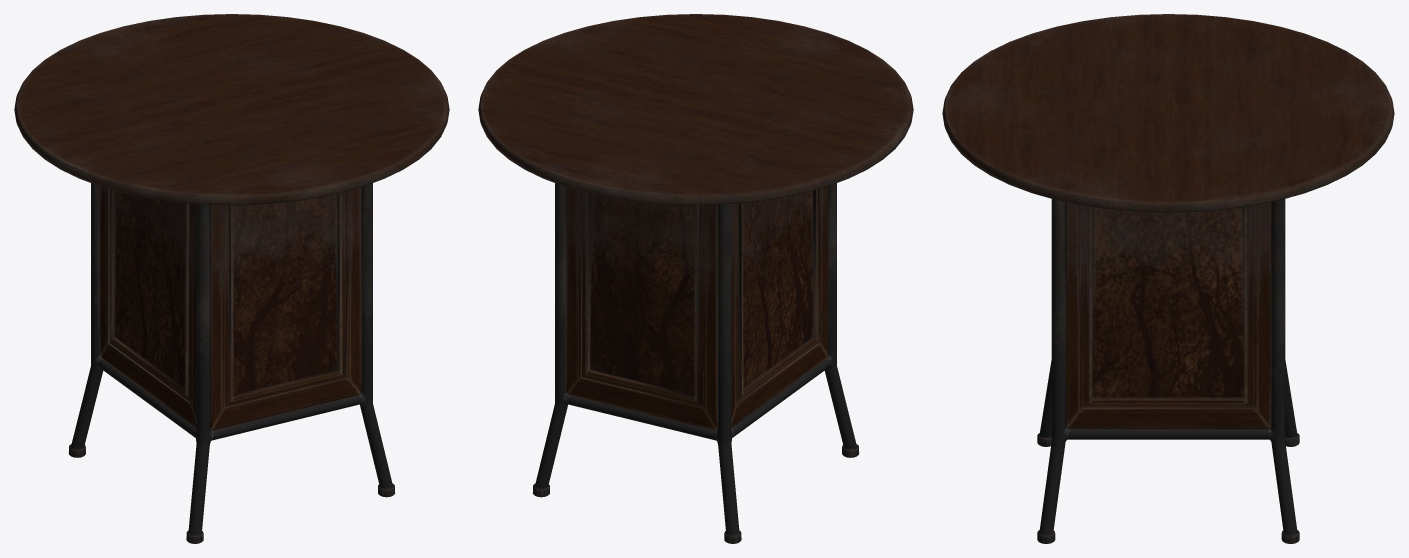
File: round_wooden_table_02.glb
The picture shows the model from 3 angles, left to right: view 1: azimuth 30°, elevation 25°; view 2: azimuth 150°, elevation 25°; view 3: azimuth 270°, elevation 25°; orthographic projection. The views are drawn at different scales.
Visible parts, largest first — view 1: round_wooden_table_02; view 2: round_wooden_table_02; view 3: round_wooden_table_02.
Part boxes in pixels (x1=…): round_wooden_table_02: x1=14, y1=14, x2=449, y2=543; round_wooden_table_02: x1=478, y1=14, x2=913, y2=543; round_wooden_table_02: x1=942, y1=14, x2=1394, y2=543.
Size of the model in its own units: 0.7962 by 0.746 by 0.7962.
Materials: 1 (1 with a texture image).
